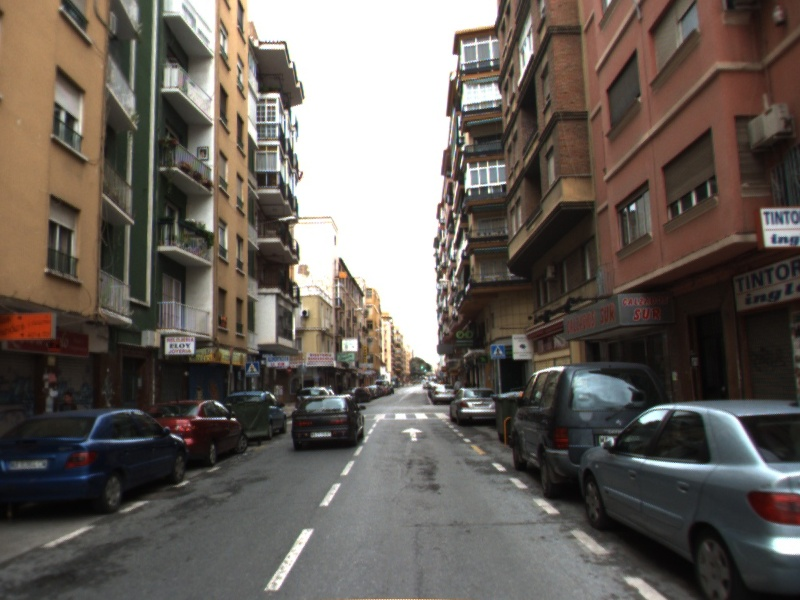STRAIGHT: (400, 425, 425, 443)
